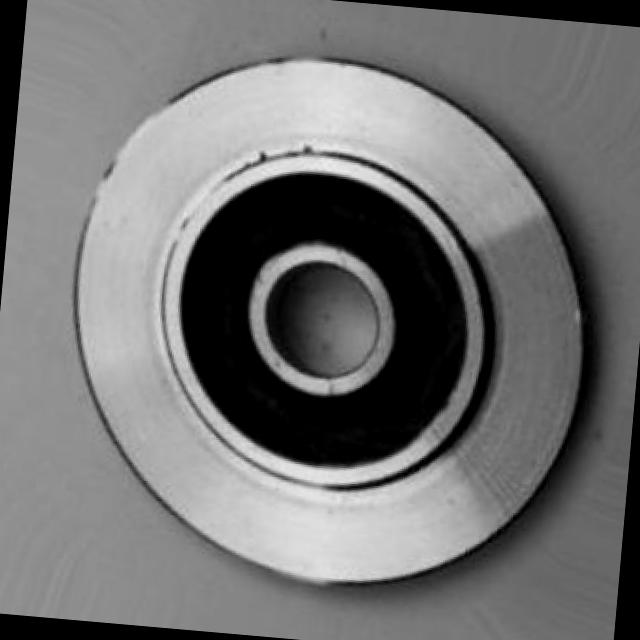Defect: (239, 132, 286, 178)
